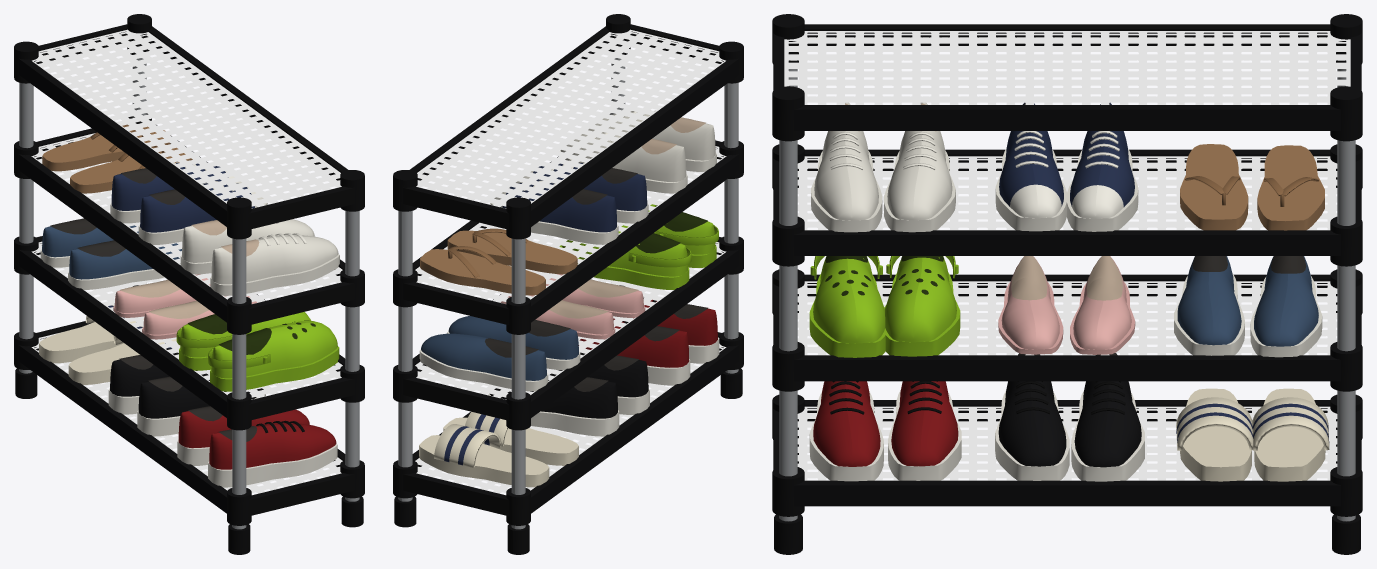
File: shoerack.glb
3 views of the same model, side by side, from view 1: azimuth 30°, elevation 25°; view 2: azimuth 150°, elevation 25°; view 3: azimuth 270°, elevation 25° (orthographic). The views are drawn at different scales.
Parts seen in each view (by area): view 1: Rack_0, Pair_LimeClogs_4, Pair_RedRunners_1, Pair_WhiteCanvasSneakers_7, Pair_DenimSlipOns_6, Pair_NavyCanvasSneakers_8, Pair_BlackRunners_2, Pair_CreamSlides_3, Pair_TanFlipFlops_9, Pair_PinkFlats_5; view 2: Rack_0, Pair_DenimSlipOns_6, Pair_CreamSlides_3, Pair_TanFlipFlops_9, Pair_BlackRunners_2, Pair_NavyCanvasSneakers_8, Pair_LimeClogs_4, Pair_WhiteCanvasSneakers_7, Pair_RedRunners_1, Pair_PinkFlats_5; view 3: Rack_0, Pair_LimeClogs_4, Pair_BlackRunners_2, Pair_RedRunners_1, Pair_CreamSlides_3, Pair_NavyCanvasSneakers_8, Pair_WhiteCanvasSneakers_7, Pair_DenimSlipOns_6, Pair_TanFlipFlops_9, Pair_PinkFlats_5.
Part boxes in pixels (x1,y1,x2,y2): Rack_0: [14, 14, 364, 554]; Pair_LimeClogs_4: [176, 312, 339, 391]; Pair_RedRunners_1: [177, 399, 337, 487]; Pair_WhiteCanvasSneakers_7: [180, 219, 339, 295]; Pair_DenimSlipOns_6: [40, 218, 181, 289]; Pair_NavyCanvasSneakers_8: [110, 160, 267, 244]; Pair_BlackRunners_2: [108, 348, 265, 436]; Pair_CreamSlides_3: [39, 305, 180, 384]; Pair_TanFlipFlops_9: [42, 124, 192, 193]; Pair_PinkFlats_5: [113, 274, 257, 339]; Rack_0: [393, 14, 743, 554]; Pair_DenimSlipOns_6: [419, 316, 580, 391]; Pair_CreamSlides_3: [419, 411, 578, 487]; Pair_TanFlipFlops_9: [420, 228, 577, 295]; Pair_BlackRunners_2: [488, 352, 649, 436]; Pair_NavyCanvasSneakers_8: [490, 160, 648, 244]; Pair_LimeClogs_4: [559, 204, 718, 289]; Pair_WhiteCanvasSneakers_7: [559, 110, 716, 193]; Pair_RedRunners_1: [578, 297, 719, 385]; Pair_PinkFlats_5: [500, 274, 645, 339]; Rack_0: [772, 14, 1362, 554]; Pair_LimeClogs_4: [809, 256, 960, 357]; Pair_BlackRunners_2: [995, 353, 1144, 481]; Pair_RedRunners_1: [809, 381, 961, 481]; Pair_CreamSlides_3: [1176, 388, 1329, 481]; Pair_NavyCanvasSneakers_8: [995, 102, 1138, 231]; Pair_WhiteCanvasSneakers_7: [811, 102, 955, 232]; Pair_DenimSlipOns_6: [1174, 256, 1322, 357]; Pair_TanFlipFlops_9: [1180, 144, 1324, 230]; Pair_PinkFlats_5: [998, 256, 1135, 354].
Size of the model in its own units: 0.295 by 0.728 by 0.855.
19 materials, 1 textured.
